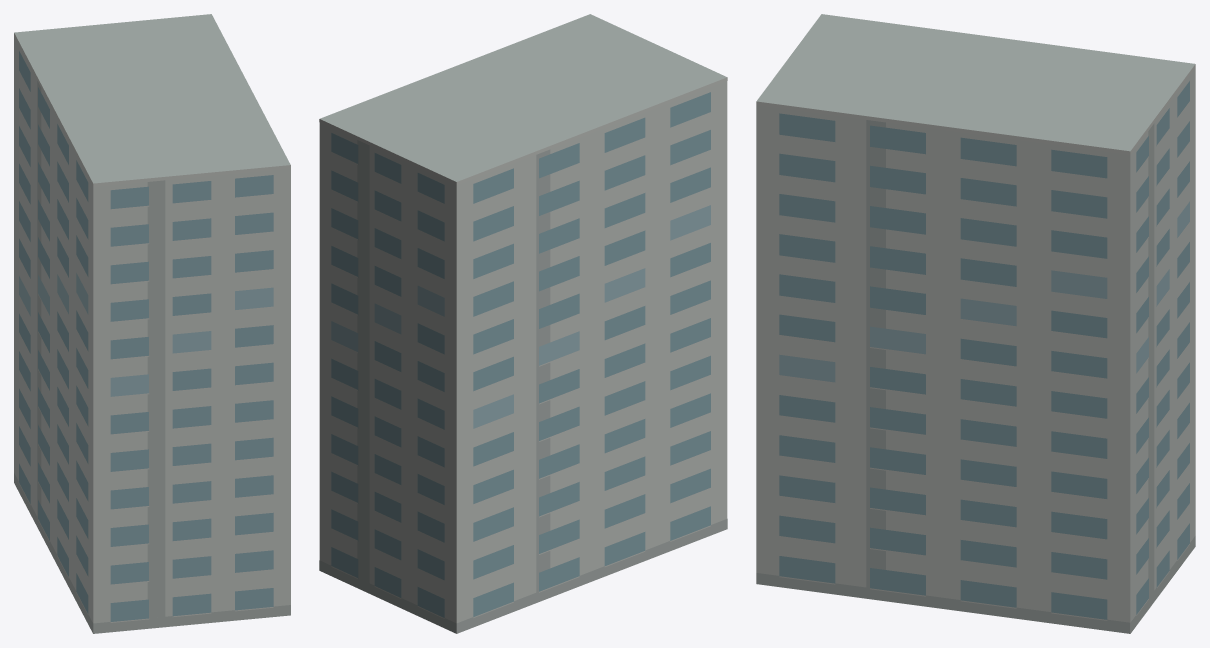
The model's file is residential-6aac5507-99fa-4a6e-a1d7-d79471a62a6b.glb.
3 renders of one model, left to right at view 1: azimuth 30°, elevation 25°; view 2: azimuth 150°, elevation 25°; view 3: azimuth 270°, elevation 25°, orthographic. The views are drawn at different scales.
Parts seen in each view (by area): view 1: residential-6aac5507-99fa-4a6e-a1d7-d79471a62a6b.tmp; view 2: residential-6aac5507-99fa-4a6e-a1d7-d79471a62a6b.tmp; view 3: residential-6aac5507-99fa-4a6e-a1d7-d79471a62a6b.tmp.
Part boxes in pixels (x1,y1,x2,y2): residential-6aac5507-99fa-4a6e-a1d7-d79471a62a6b.tmp: [14, 14, 290, 633]; residential-6aac5507-99fa-4a6e-a1d7-d79471a62a6b.tmp: [319, 14, 727, 633]; residential-6aac5507-99fa-4a6e-a1d7-d79471a62a6b.tmp: [756, 14, 1195, 633].
Bounding box in the file's own units: 18.92 × 31 × 25.58.
